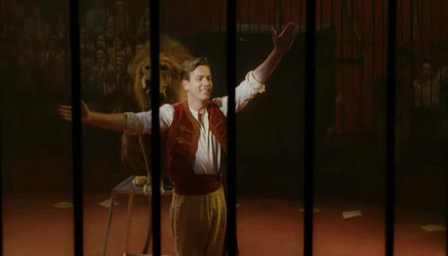face: (192, 67, 213, 101)
mls: (1, 1, 448, 256)
person: (57, 20, 298, 256)
